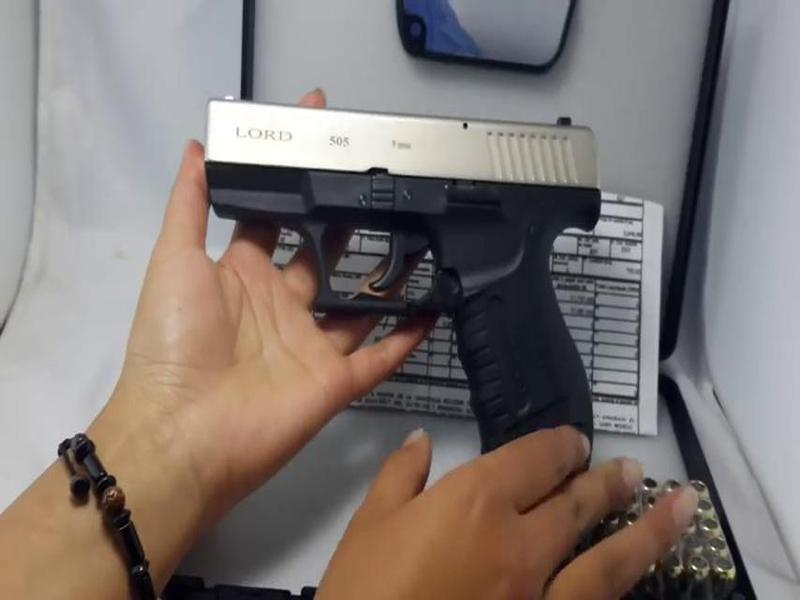Pistola: (187, 86, 637, 484)
